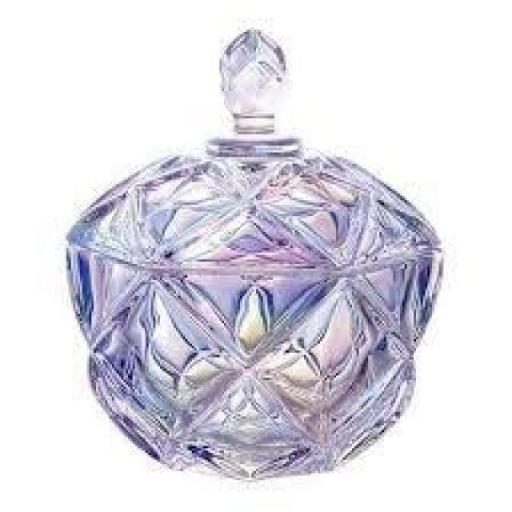glass: (41, 20, 465, 485)
